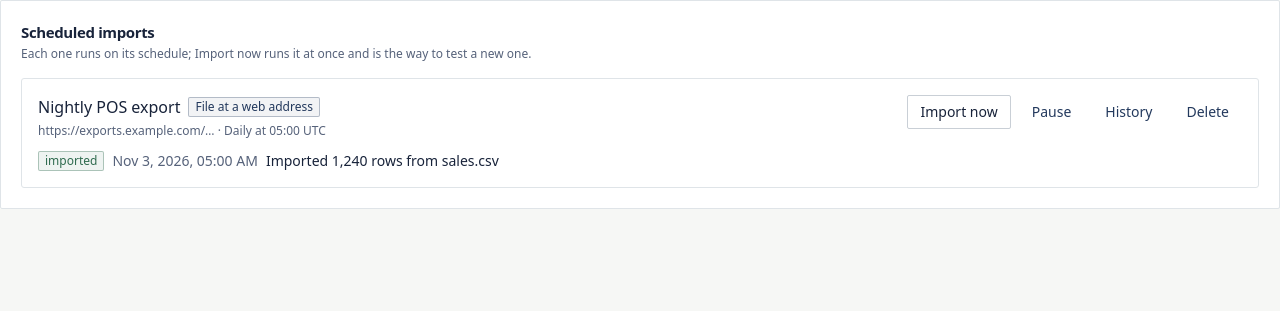
Scenario: scheduled imports list › runs an import now and shows its history
The width and height of the screenshot is (1280, 311).
Click the button "Import now" at point(959, 112), box top-left (908, 94), bottom-right (1011, 128)
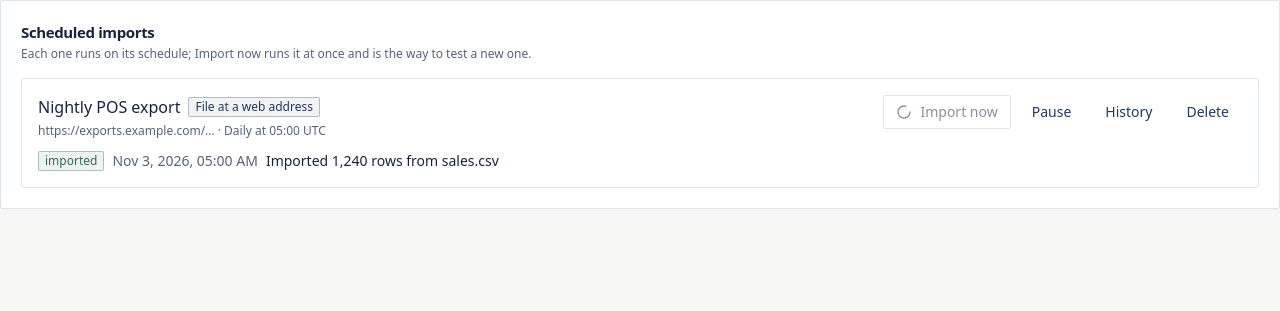
Click the button "History" at point(1129, 112), box top-left (1092, 94), bottom-right (1165, 128)
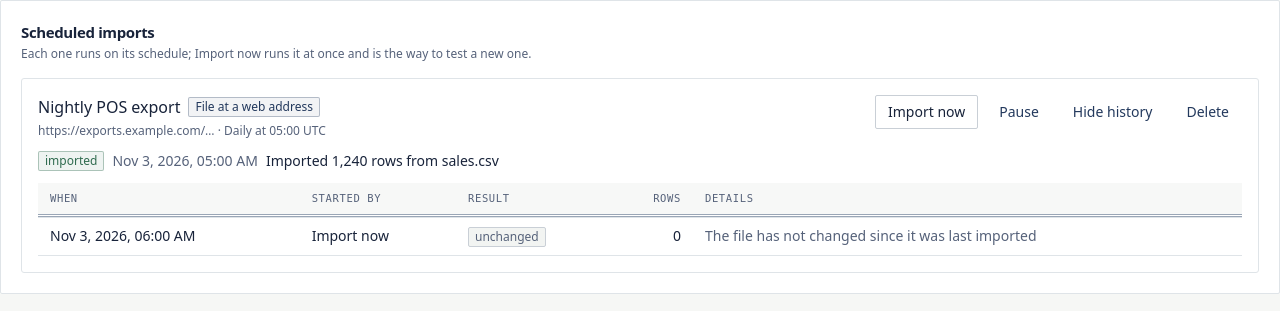
Now the table named "Import history for Nightly POS export" shows "has not changed", box top-left (705, 226), bottom-right (1037, 245)
